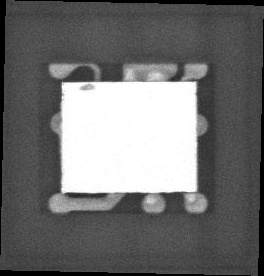DIE_INK: (75, 87, 92, 96)
